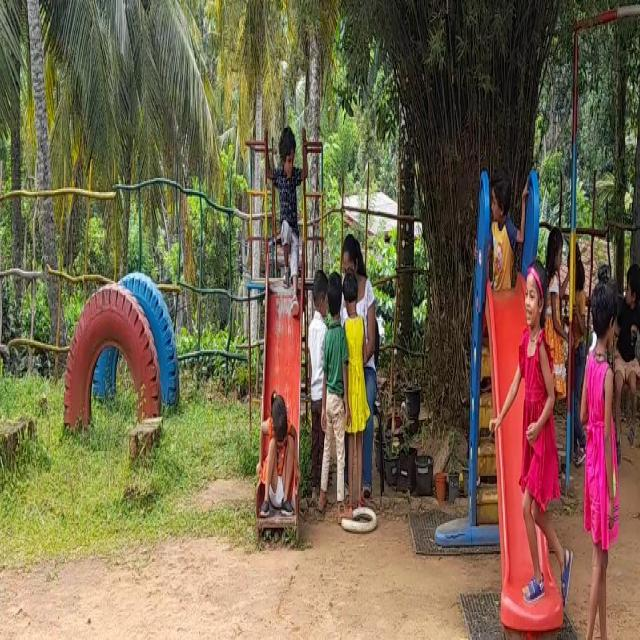adult: (336, 233, 376, 492)
child: (489, 256, 572, 608), (580, 279, 618, 640), (318, 269, 351, 524), (342, 269, 375, 521), (265, 125, 306, 314), (308, 266, 332, 514), (259, 391, 300, 516), (541, 230, 571, 399), (486, 172, 530, 284), (616, 259, 640, 460)
